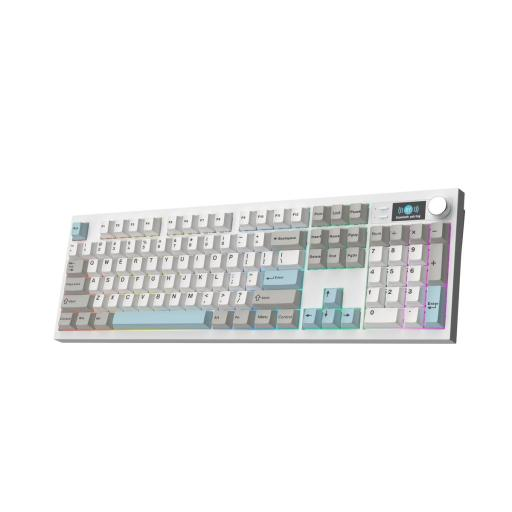keyboard: (54, 188, 464, 343)
